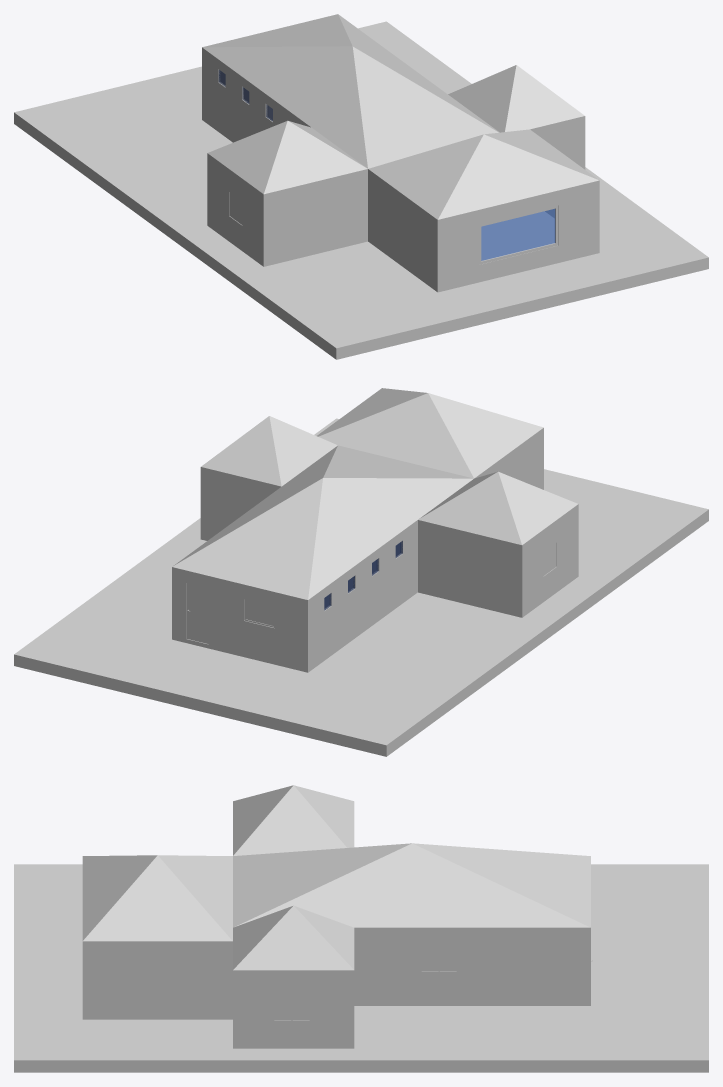
Rendered from new_house.fbx.
The picture shows the model from 3 angles, top to bottom: view 1: azimuth 30°, elevation 25°; view 2: azimuth 150°, elevation 25°; view 3: azimuth 270°, elevation 25°; orthographic projection. The views are drawn at different scales.
Visible parts, largest first — view 1: suelo1, Group7, techo1, techo3_1, techo2_1, techo3_1_1, houseFloor1, ventanal1, marco_ventanal1; view 2: suelo1, Group7, techo1, techo3_1, techo2_1, techo3_1_1, houseFloor1, Group8; view 3: suelo1, Group7, techo1, techo3_1, techo2_1, techo3_1_1, houseFloor1, base_techo_hall1, ventana1, ventana2, ventana3, ventana4.
Boxes of the visible parts, x1,y1,x2,y2 form: suelo1: (14, 21, 708, 359); Group7: (202, 49, 599, 288); techo1: (202, 14, 499, 168); techo3_1: (368, 129, 599, 219); techo2_1: (207, 120, 367, 194); techo3_1_1: (448, 65, 584, 132); houseFloor1: (202, 106, 599, 292); ventanal1: (481, 208, 555, 260); marco_ventanal1: (479, 205, 558, 264); suelo1: (14, 418, 708, 756); Group7: (172, 429, 578, 668); techo1: (172, 445, 473, 599); techo3_1: (317, 388, 543, 478); techo2_1: (418, 471, 577, 544); techo3_1_1: (201, 416, 337, 486); houseFloor1: (172, 535, 578, 672); Group8: (187, 583, 208, 643); suelo1: (14, 864, 708, 1072); Group7: (82, 929, 590, 1044); techo1: (233, 843, 590, 927); techo3_1: (82, 855, 232, 941); techo2_1: (233, 785, 354, 855); techo3_1_1: (233, 905, 354, 970); houseFloor1: (82, 1001, 590, 1048); base_techo_hall1: (354, 927, 590, 929); ventana1: (421, 945, 438, 970); ventana2: (439, 945, 456, 970); ventana3: (274, 995, 291, 1020); ventana4: (292, 995, 309, 1020).
Size of the model in its own units: 1450 by 480 by 2174.
